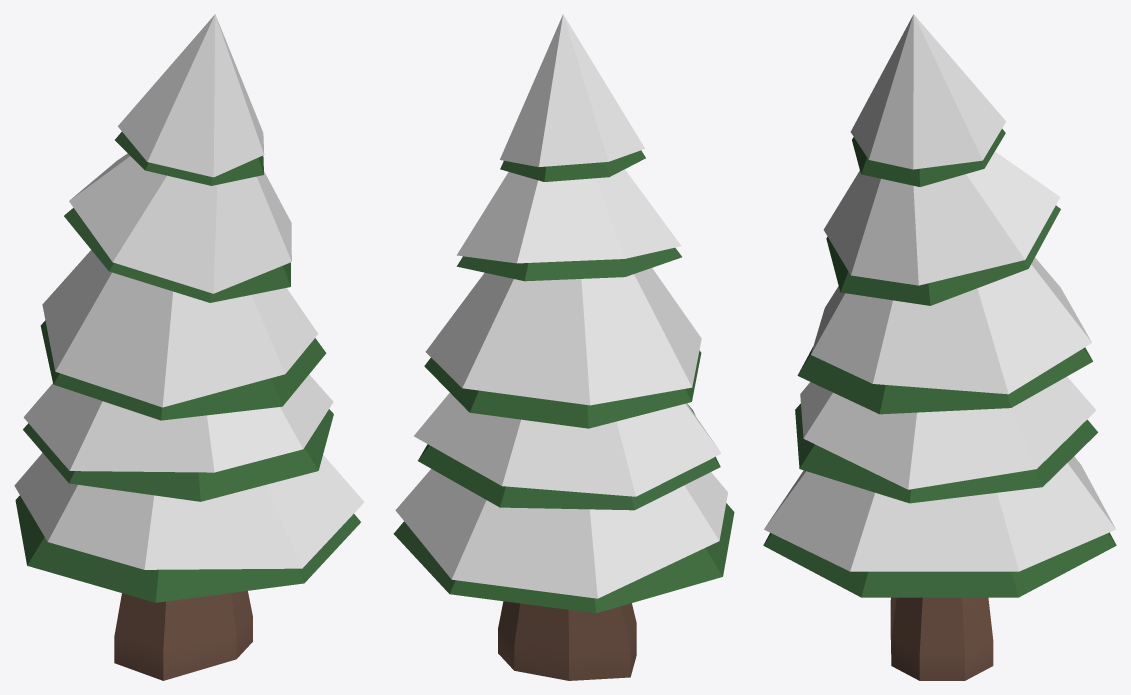
Rendered from Tree_1.fbx.
3 renders of one model, left to right at view 1: azimuth 30°, elevation 25°; view 2: azimuth 150°, elevation 25°; view 3: azimuth 270°, elevation 25°, orthographic. The views are drawn at different scales.
Parts seen in each view (by area): view 1: Tree; view 2: Tree; view 3: Tree.
Part boxes in pixels (x1,y1,x2,y2): Tree: (14, 14, 364, 680); Tree: (393, 14, 734, 680); Tree: (763, 14, 1116, 680).
Size of the model in its own units: 4.32 by 8.98 by 4.43.
